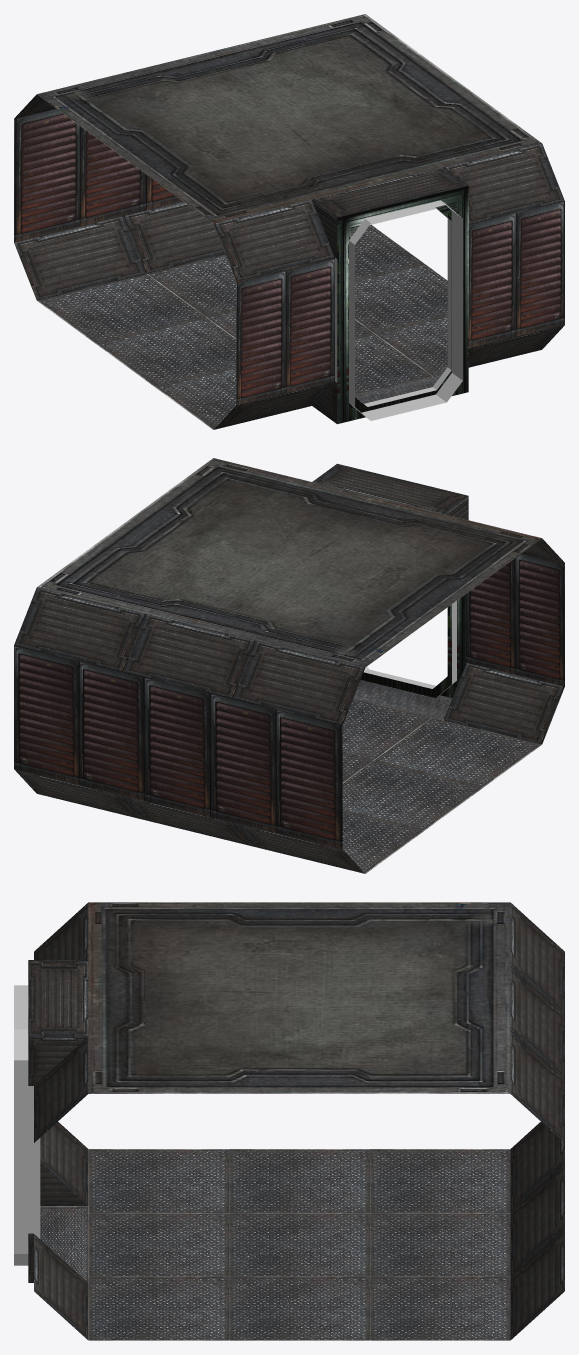
File: HallwayOneDoor.fbx
The picture shows the model from 3 angles, top to bottom: view 1: azimuth 30°, elevation 25°; view 2: azimuth 150°, elevation 25°; view 3: azimuth 270°, elevation 25°; orthographic projection. The views are drawn at different scales.
Visible parts, largest first — view 1: pCube23; view 2: pCube23; view 3: pCube23.
Part boxes in pixels (x1=…): pCube23: x1=14, y1=14, x2=564, y2=429; pCube23: x1=14, y1=458, x2=564, y2=873; pCube23: x1=14, y1=902, x2=564, y2=1340.
Bounding box in the file's own units: 10 × 6 × 12.15.
